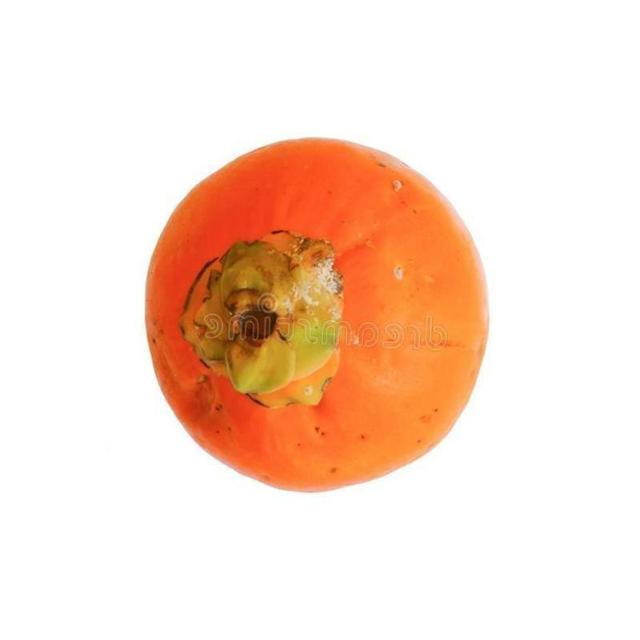good: (144, 137, 492, 496)
